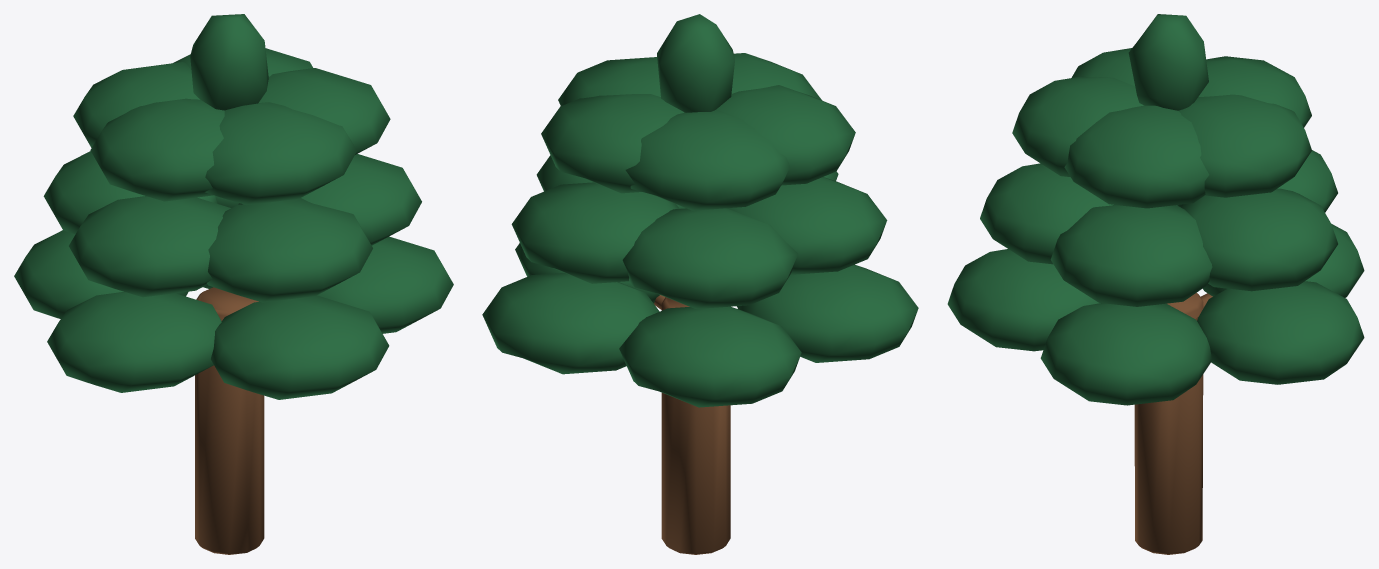
The model's file is org_conifer.glb.
The picture shows the model from 3 angles, left to right: view 1: azimuth 30°, elevation 25°; view 2: azimuth 150°, elevation 25°; view 3: azimuth 270°, elevation 25°; orthographic projection.
Parts seen in each view (by area): view 1: Foliage, Trunk; view 2: Foliage, Trunk; view 3: Foliage, Trunk.
Boxes of the visible parts, x1,y1,x2,y2 form: Foliage: (14, 14, 453, 399); Trunk: (195, 287, 264, 554); Foliage: (482, 14, 918, 407); Trunk: (654, 295, 730, 554); Foliage: (947, 14, 1364, 405); Trunk: (1134, 293, 1212, 554).
Bounding box in the file's own units: 1.99 × 2.6 × 1.86.
